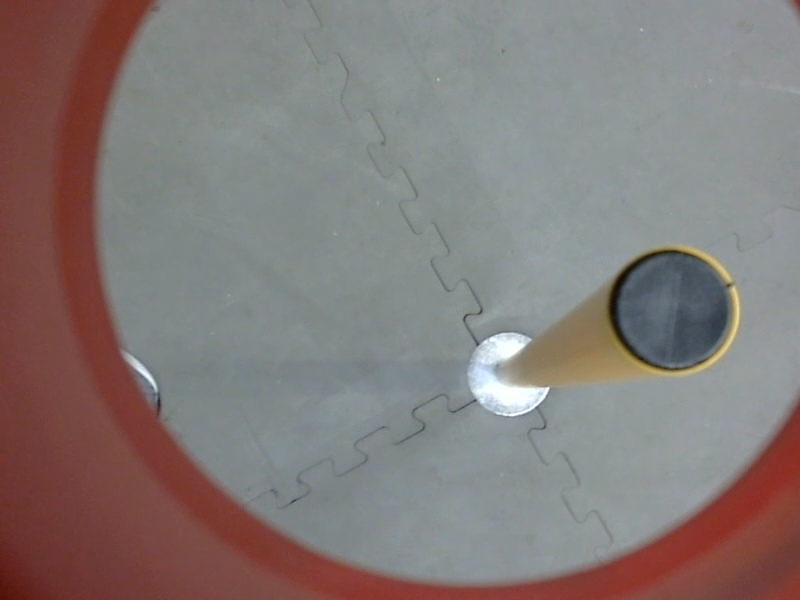tip: (597, 232, 755, 387)
